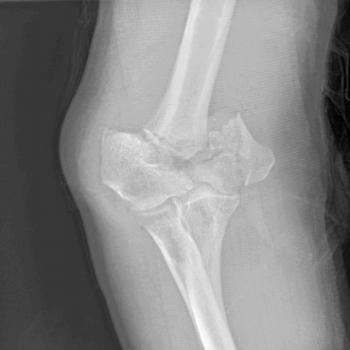Fracture: (182, 99, 247, 162)
